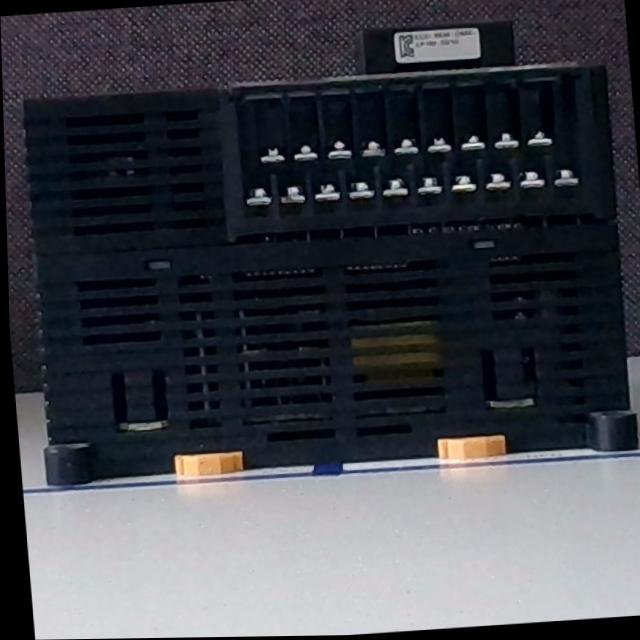plc: (11, 17, 640, 495)
